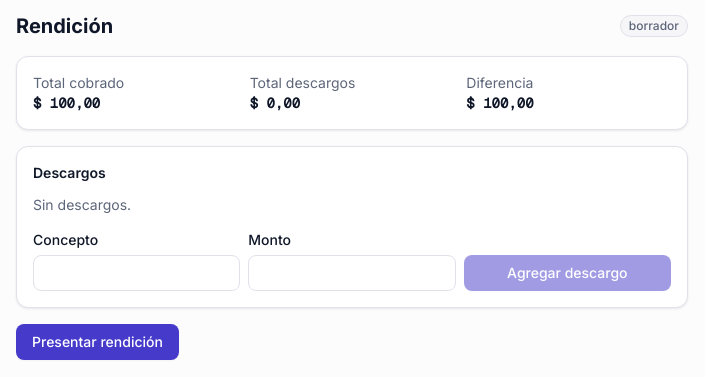
Test case: Botones transaccionales: disable durante la mutacion en vuelo › presentar rendicion se deshabilita mientras postea
Step 1. Click the button "Presentar rendición" → click(97, 342), box [16,324,179,360]
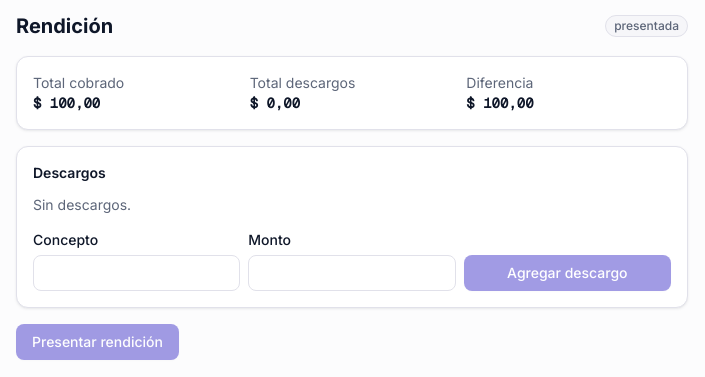
Check: the button "Presentar rendición" is disabled, box [16,324,179,360]
